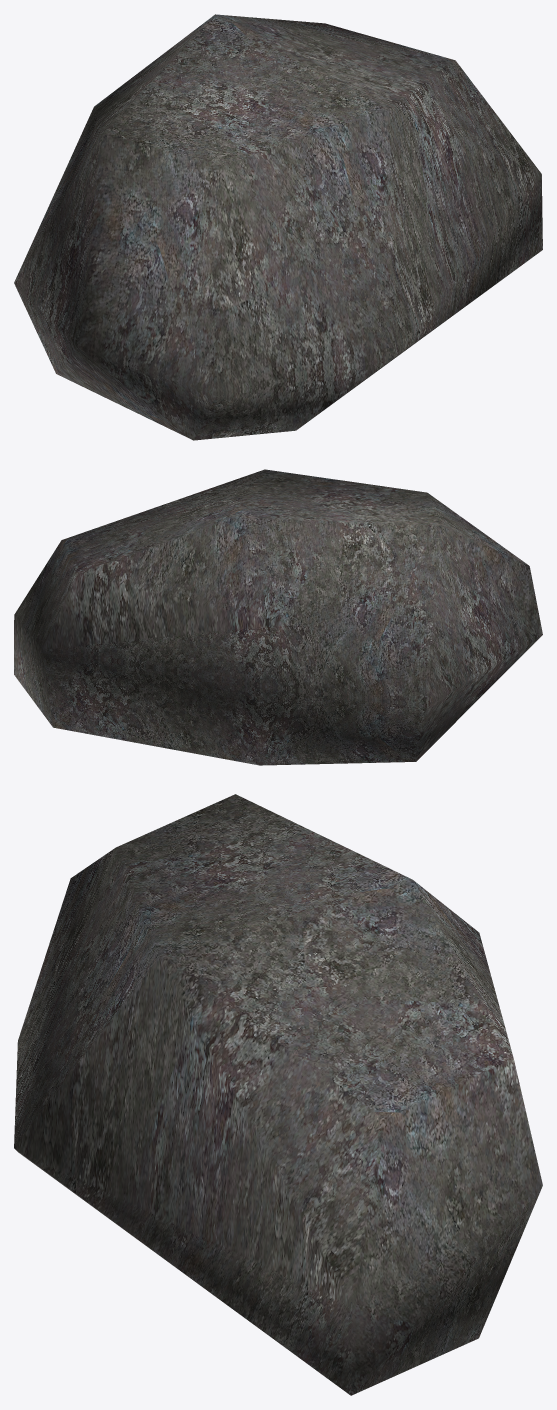
Rendered from rock_volcanorockc_l3.fbx.
3 views of the same model, one above another, from view 1: azimuth 30°, elevation 25°; view 2: azimuth 150°, elevation 25°; view 3: azimuth 270°, elevation 25° (orthographic). The views are drawn at different scales.
Visible parts, largest first — view 1: mesh_node; view 2: mesh_node; view 3: mesh_node.
Part boxes in pixels (box(x1,y1,x2,y2)): mesh_node: box(14, 14, 542, 440); mesh_node: box(14, 469, 542, 765); mesh_node: box(14, 794, 542, 1395).
Bounding box in the file's own units: 14.38 × 7.1 × 9.88.
1 material, 1 textured.
